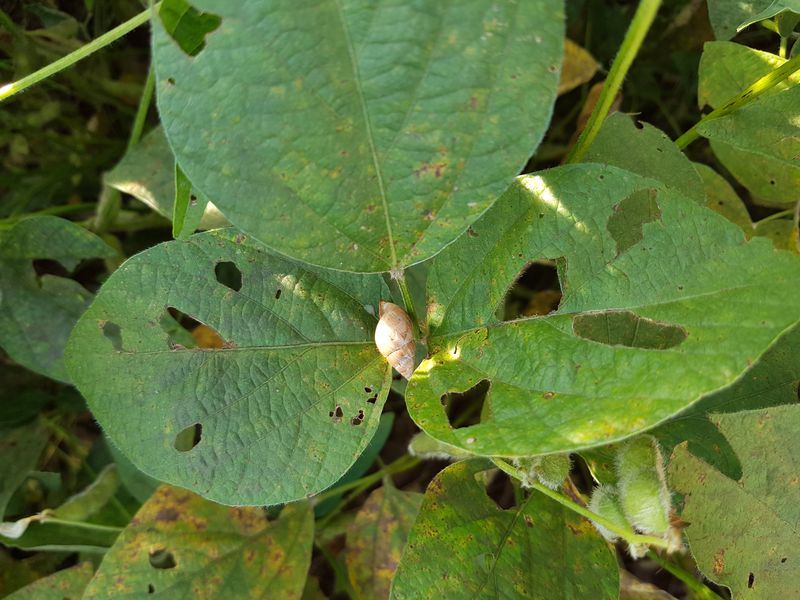Gastropoda: (358, 293, 440, 391)
